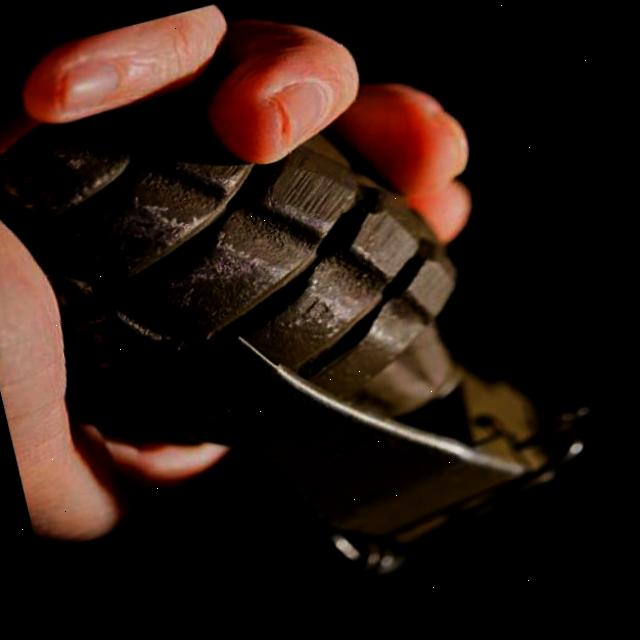grenade: (0, 17, 610, 640)
